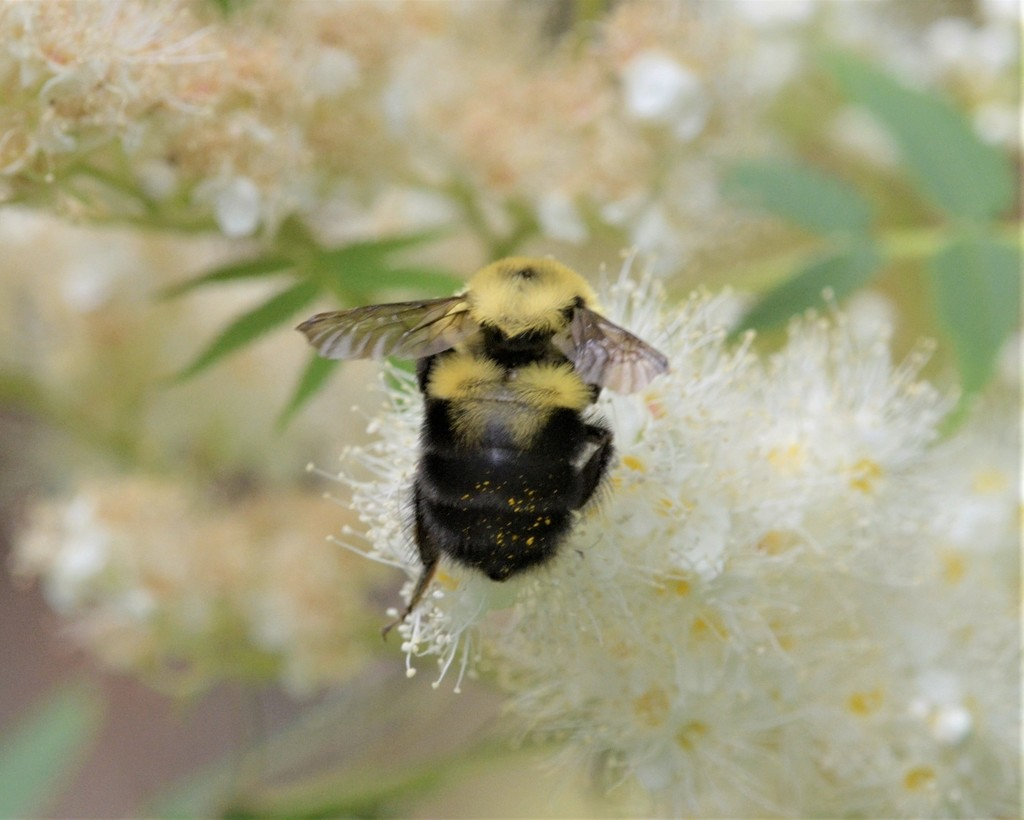bumblebee: (295, 253, 672, 645)
